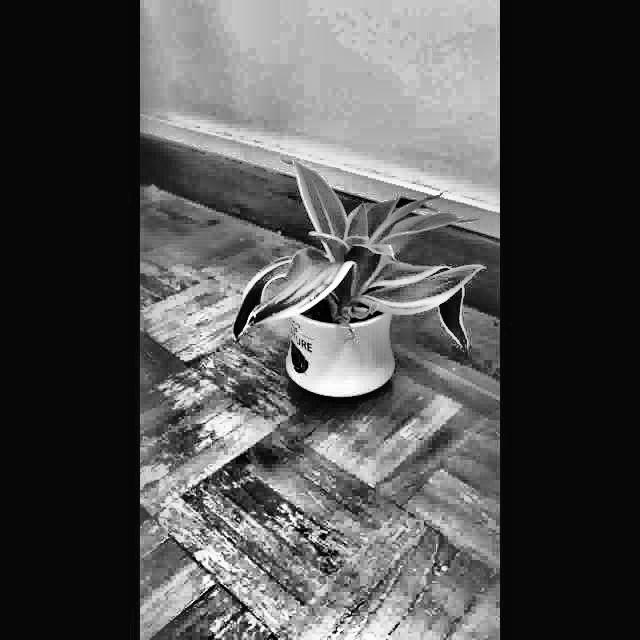plants: (225, 150, 488, 402)
